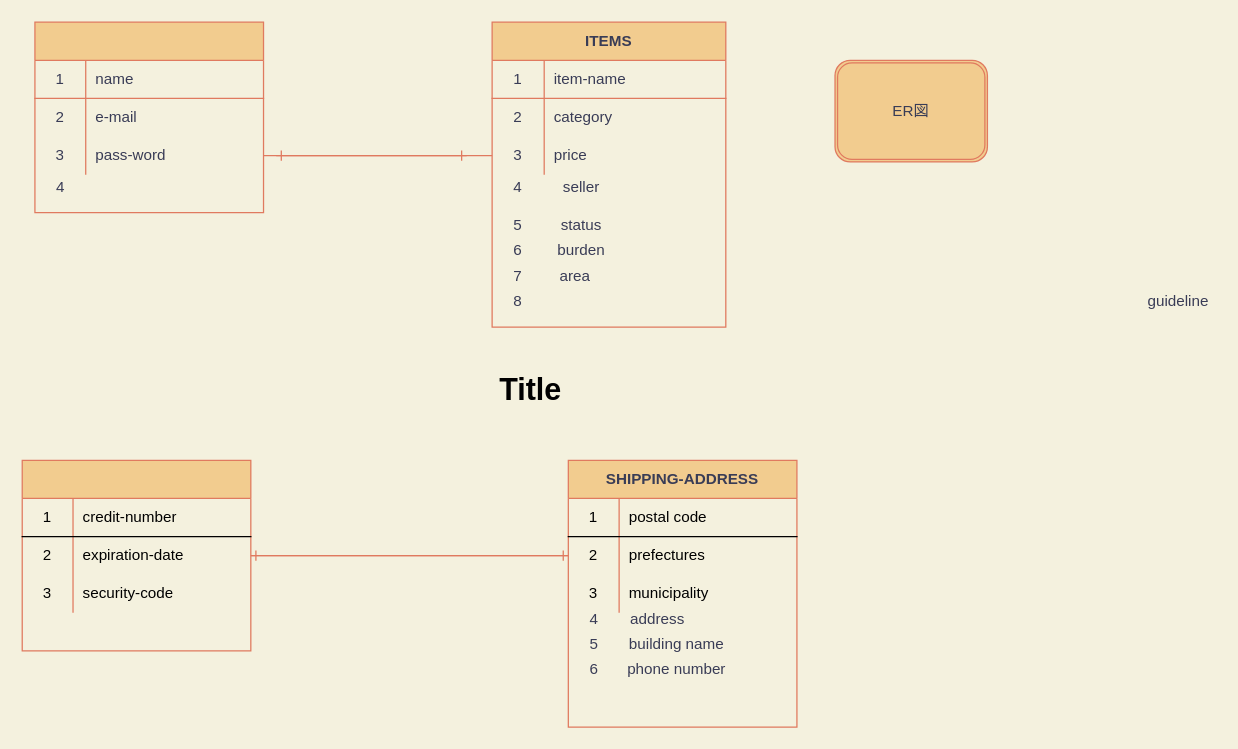
Some shapes in this 1238 by 749 pixel diagram are drawn without their labels. Here are the shapes that lost their labels. From the top down, the box of each, then its label:
(34, 21, 264, 213): USERS
(21, 459, 251, 651): paechases
